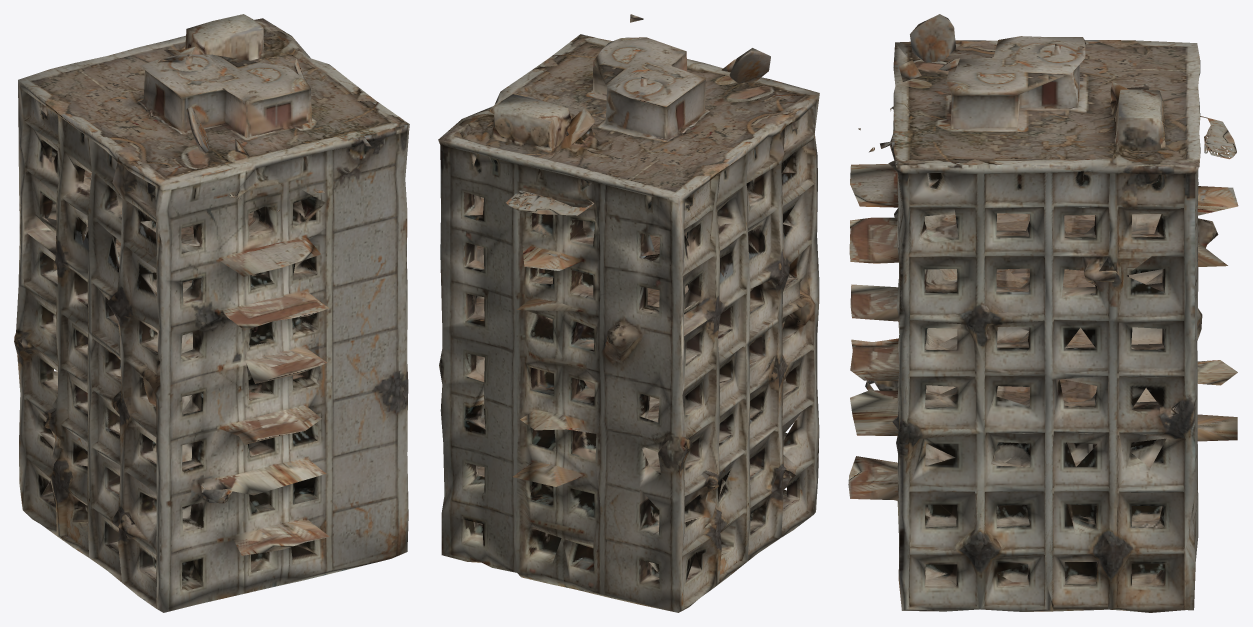
File: Bldg_MidRise_8k.glb
3 renders of one model, left to right at view 1: azimuth 30°, elevation 25°; view 2: azimuth 150°, elevation 25°; view 3: azimuth 270°, elevation 25°, orthographic. The views are drawn at different scales.
Parts seen in each view (by area): view 1: texture_mapping; view 2: texture_mapping; view 3: texture_mapping.
Boxes of the visible parts, left/top/right/bottom form: texture_mapping: left=14, top=14, right=409, bottom=612; texture_mapping: left=438, top=14, right=819, bottom=612; texture_mapping: left=848, top=14, right=1238, bottom=612.
Bounding box in the file's own units: 0.5183 × 0.9222 × 0.6309.
1 material, 1 textured.
